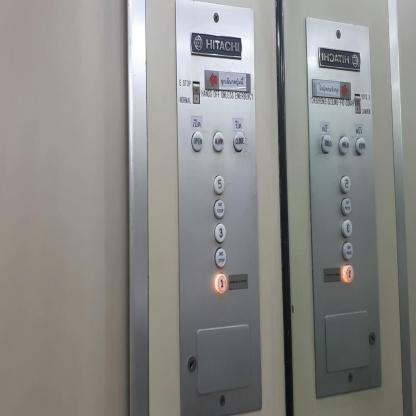1: (214, 272, 227, 292)
3: (214, 222, 226, 244)
5: (213, 174, 224, 196)
switch: (192, 80, 200, 105), (354, 91, 362, 115)
text_alarm bell: (191, 130, 203, 153)
text_close door: (233, 130, 245, 152)
text_nostop: (214, 247, 226, 269), (213, 199, 225, 219)
text_open door: (212, 130, 224, 153)
unknown: (342, 239, 354, 262), (343, 261, 355, 284), (338, 134, 350, 156), (355, 135, 367, 157), (339, 172, 351, 194), (340, 194, 352, 216), (341, 218, 353, 240), (321, 132, 332, 154)
